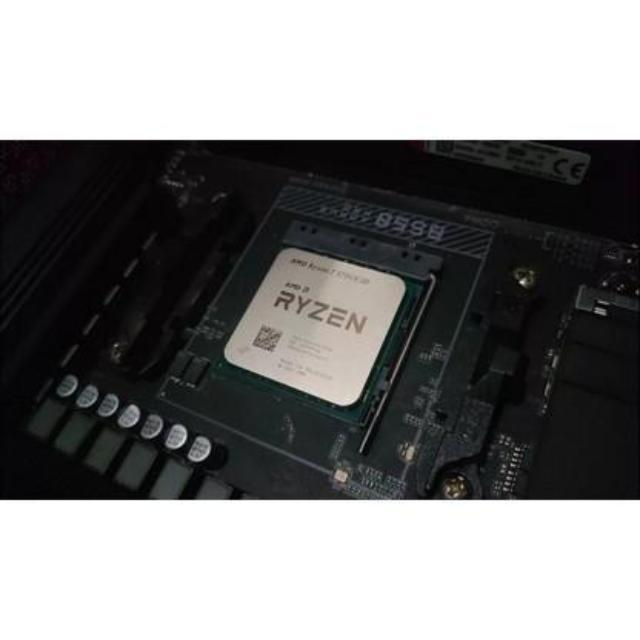CPU: (224, 245, 407, 410)
